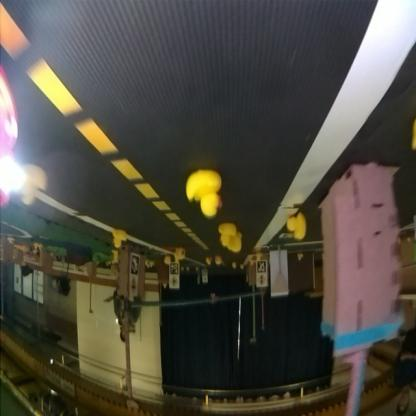Duckie: (186, 170, 224, 216), (21, 167, 49, 205), (288, 214, 306, 240), (219, 224, 234, 247), (112, 232, 126, 248), (176, 250, 186, 260), (256, 254, 262, 262), (207, 258, 212, 266), (216, 258, 222, 264), (166, 258, 172, 264)
Duckiebot: (2, 64, 18, 209)
Intersection sign: (130, 278, 138, 296), (171, 276, 179, 288)
QR code: (132, 258, 140, 274), (258, 262, 267, 274), (171, 263, 179, 275)
Signal sign: (258, 277, 266, 287)
